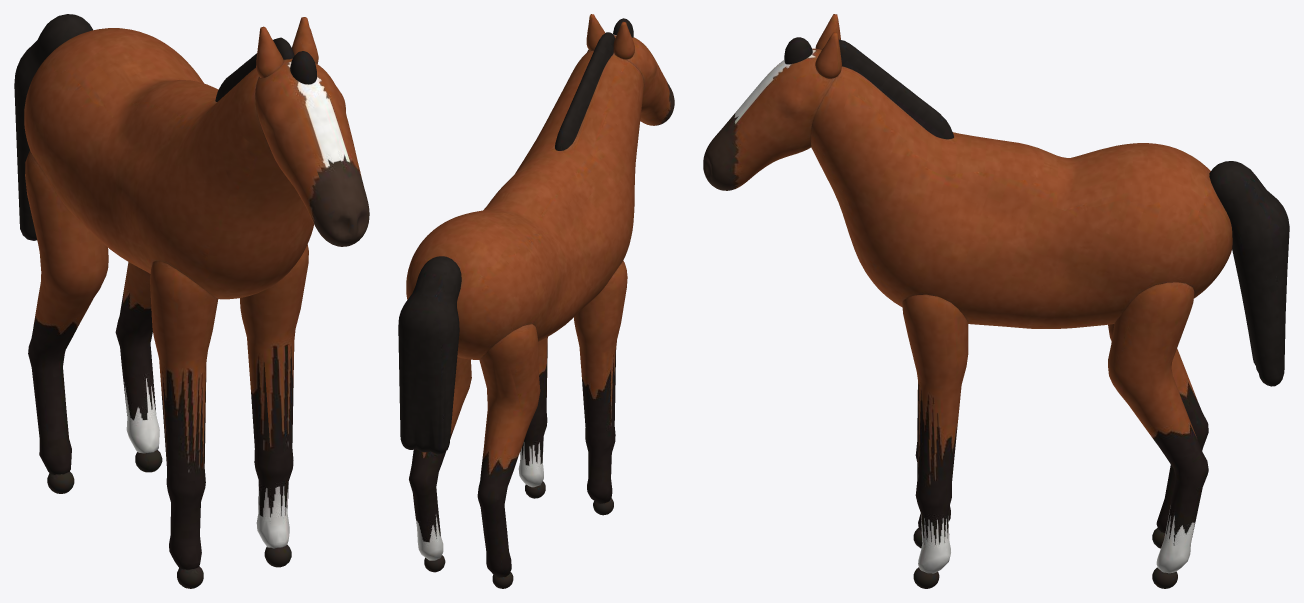
The model's file is animal_horse.glb.
3 renders of one model, left to right at view 1: azimuth 30°, elevation 25°; view 2: azimuth 150°, elevation 25°; view 3: azimuth 270°, elevation 25°, orthographic. The views are drawn at different scales.
Visible parts, largest first — view 1: animal_horse, head, leg0, leg2, leg1, leg3, tail; view 2: animal_horse, tail, leg2, leg0, leg3, head, leg1; view 3: animal_horse, leg3, leg1, head, tail, leg2.
Part boxes in pixels (left/top/right/bottom): animal_horse: left=24, top=28, right=313, bottom=299; head: left=255, top=17, right=369, bottom=246; leg0: left=150, top=261, right=218, bottom=588; leg2: left=25, top=150, right=108, bottom=493; leg1: left=240, top=244, right=308, bottom=567; leg3: left=115, top=262, right=162, bottom=472; tail: left=14, top=14, right=92, bottom=240; animal_horse: left=406, top=32, right=643, bottom=359; tail: left=398, top=256, right=461, bottom=454; leg2: left=477, top=324, right=540, bottom=588; leg0: left=574, top=260, right=627, bottom=515; leg3: left=409, top=357, right=471, bottom=572; head: left=586, top=14, right=674, bottom=125; leg1: left=518, top=337, right=547, bottom=498; animal_horse: left=811, top=39, right=1232, bottom=328; leg3: left=1108, top=282, right=1208, bottom=588; leg1: left=902, top=294, right=968, bottom=588; head: left=703, top=14, right=841, bottom=190; tail: left=1209, top=161, right=1289, bottom=386; leg2: left=1108, top=324, right=1208, bottom=548.
Bounding box in the file's own units: 0.2312 × 0.8228 × 0.8035.
1 material, 1 textured.
